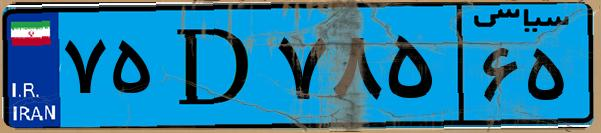5: (385, 28, 445, 110), (525, 38, 570, 115), (110, 28, 158, 98)
6: (475, 38, 525, 113)
7: (270, 28, 330, 110), (57, 26, 110, 100)
8: (330, 28, 385, 110)
D: (158, 12, 270, 120)
